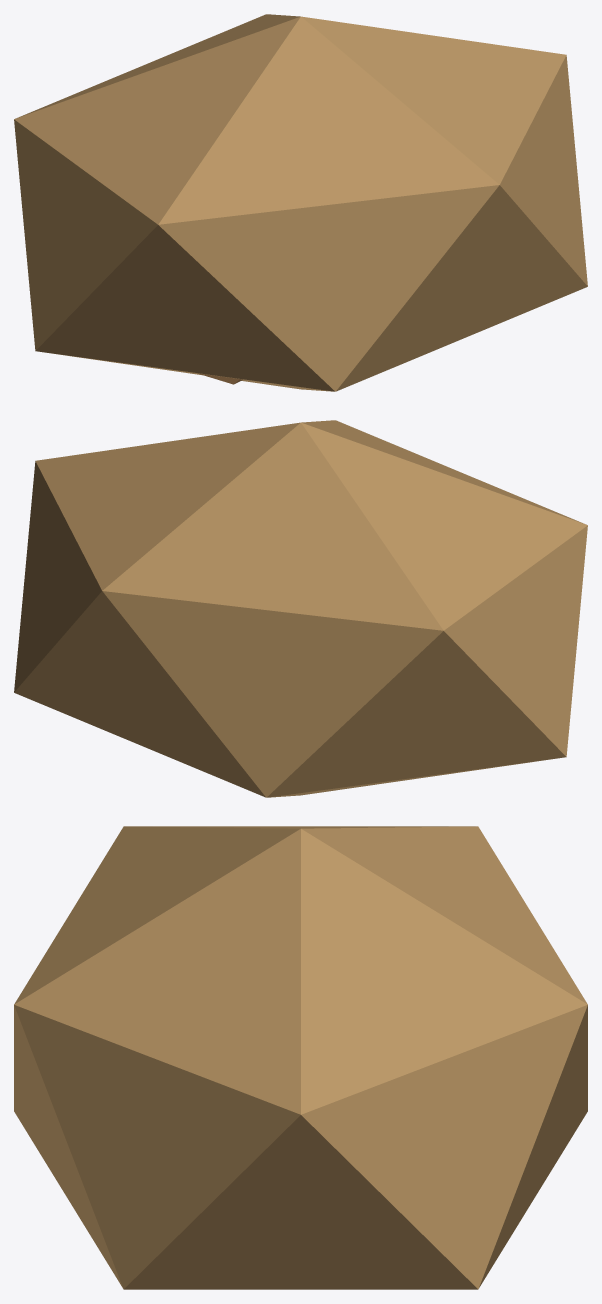
File: TR3_DirtPile_Small.glb
3 views of the same model, one above another, from view 1: azimuth 30°, elevation 25°; view 2: azimuth 150°, elevation 25°; view 3: azimuth 270°, elevation 25° (orthographic). The views are drawn at different scales.
Visible parts, largest first — view 1: TR3_DirtPile_Small; view 2: TR3_DirtPile_Small; view 3: TR3_DirtPile_Small.
Part boxes in pixels (x1,y1,x2,y2): TR3_DirtPile_Small: [14, 14, 587, 391]; TR3_DirtPile_Small: [14, 420, 587, 797]; TR3_DirtPile_Small: [14, 826, 587, 1289].
Size of the model in its own units: 1.25 by 0.84 by 0.9527.
